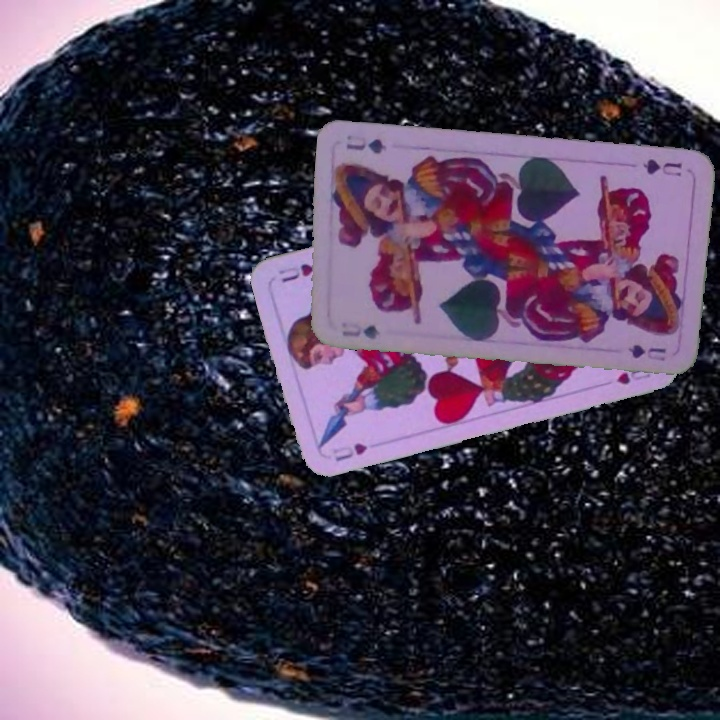GU: (638, 154, 685, 179), (338, 321, 382, 342)
HU: (329, 438, 370, 464)
